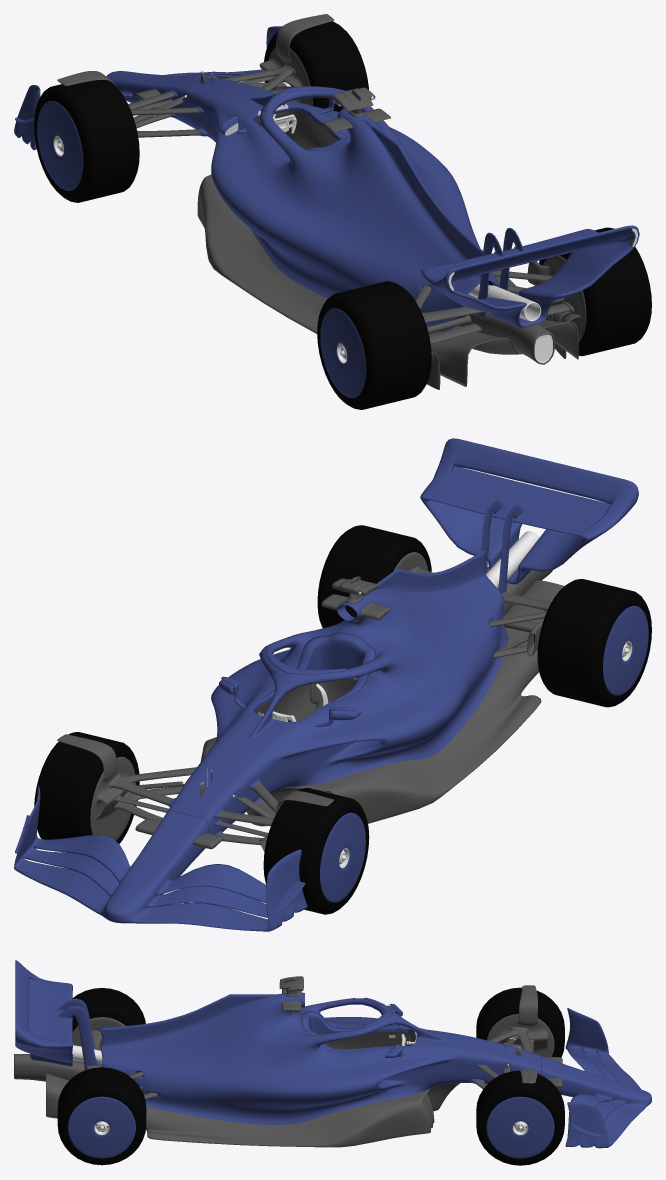
The model's file is F12022_bodytest.fbx.
3 renders of one model, top to bottom at view 1: azimuth 30°, elevation 25°; view 2: azimuth 150°, elevation 25°; view 3: azimuth 270°, elevation 25°, orthographic. The views are drawn at different scales.
Visible parts, largest first — view 1: Body_low, Floor_low.003, RearTyre, FrontTyre, RearWing_low, RearTyre.001, FrontTyre.004, FronyWheelHub, RearWheelHub, FrontWing_low, FrontWheelHubInner, CrashStruct.005 (+11 smaller); view 2: Body_low, FrontWing_low, Floor_low.003, RearWing_low, RearTyre, RearWingDRS_low, FrontTyre.004, FrontTyre, RearTyre.001, FrontWheelHubInner, FronyWheelHub, RearWheelHub (+11 smaller); view 3: Body_low, Floor_low.003, FrontWing_low, RearTyre.001, FrontTyre.004, FronyWheelHub, RearWheelHub, RearWing_low, FrontTyre, FrontWheelHubInner, RearWingDRS_low, RearTyre (+7 smaller).
Boxes of the visible parts, x1,y1,x2,y2 form: Body_low: (166, 77, 499, 331); Floor_low.003: (197, 174, 578, 386); RearTyre: (317, 281, 431, 409); FrontTyre: (34, 80, 139, 202); RearWing_low: (420, 225, 639, 327); RearTyre.001: (539, 227, 651, 356); FrontTyre.004: (264, 21, 368, 111); FronyWheelHub: (37, 101, 83, 190); RearWheelHub: (320, 308, 366, 398); FrontWing_low: (14, 26, 281, 150); FrontWheelHubInner: (57, 14, 334, 105); CrashStruct.005: (457, 306, 554, 364); Body_low: (168, 548, 508, 834); FrontWing_low: (14, 786, 307, 931); Floor_low.003: (200, 567, 564, 826); RearWing_low: (420, 438, 638, 584); RearTyre: (537, 579, 651, 707); RearWingDRS_low: (430, 466, 610, 535); FrontTyre.004: (34, 732, 139, 843); FrontTyre: (263, 788, 369, 914); RearTyre.001: (317, 525, 431, 628); FrontWheelHubInner: (57, 734, 333, 851); FronyWheelHub: (320, 812, 365, 902); RearWheelHub: (603, 605, 648, 695); Body_low: (97, 992, 541, 1124); Floor_low.003: (46, 1060, 460, 1147); FrontWing_low: (541, 1008, 651, 1148); RearTyre.001: (57, 1067, 146, 1165); FrontTyre.004: (476, 1070, 564, 1165); FronyWheelHub: (486, 1096, 554, 1158); RearWheelHub: (68, 1096, 135, 1158); RearWing_low: (15, 960, 72, 1066); FrontTyre: (476, 987, 564, 1057); FrontWheelHubInner: (487, 985, 554, 1083); RearWingDRS_low: (29, 978, 72, 1040); RearTyre: (72, 988, 145, 1031).
Size of the model in its own units: 201 by 124 by 518.
